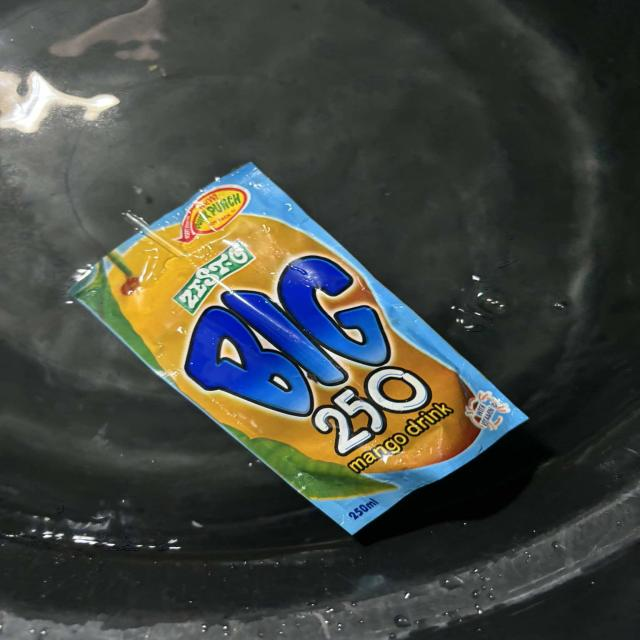Plastic Pouch: (69, 164, 527, 534)
